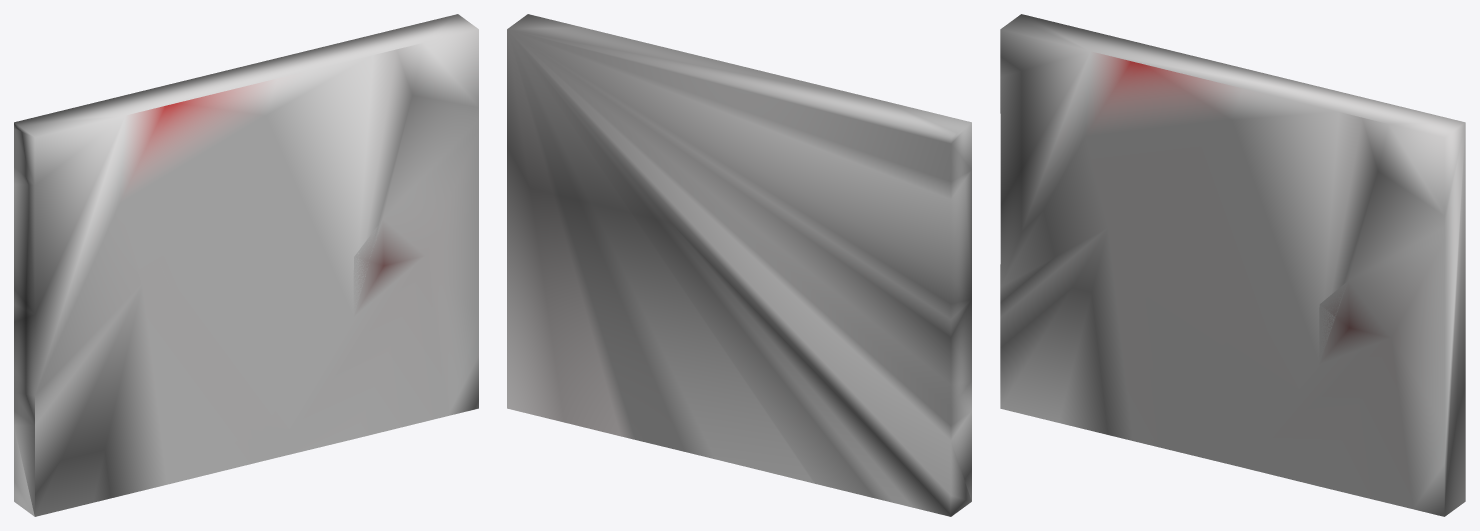
Rendered from SM_FA_Factory_W245_H200.fbx.
3 renders of one model, left to right at view 1: azimuth 30°, elevation 25°; view 2: azimuth 150°, elevation 25°; view 3: azimuth 330°, elevation 25°, orthographic.
Parts seen in each view (by area): view 1: SM_FA_Factory_W245_H200; view 2: SM_FA_Factory_W245_H200; view 3: SM_FA_Factory_W245_H200.
Boxes of the visible parts, x1,y1,x2,y2 form: SM_FA_Factory_W245_H200: [14, 14, 478, 516]; SM_FA_Factory_W245_H200: [507, 14, 971, 516]; SM_FA_Factory_W245_H200: [1000, 14, 1465, 516].
Bounding box in the file's own units: 245 × 20 × 200.
